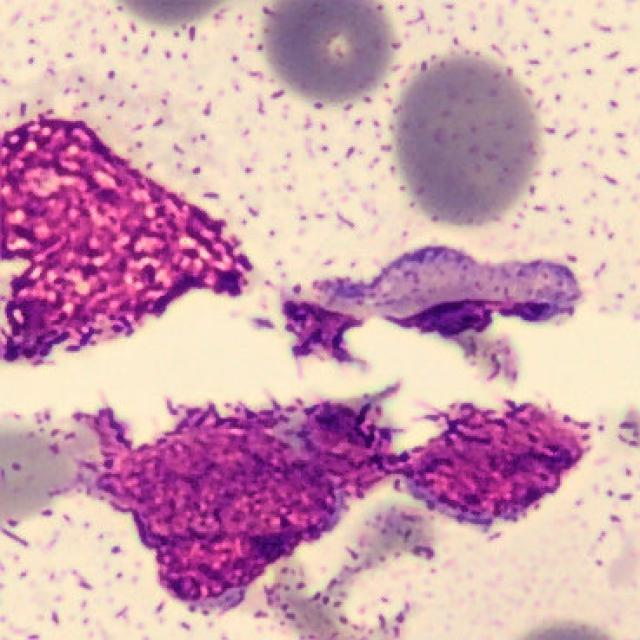Restos celulares: (83, 394, 591, 605), (2, 118, 254, 365), (292, 246, 583, 382)
